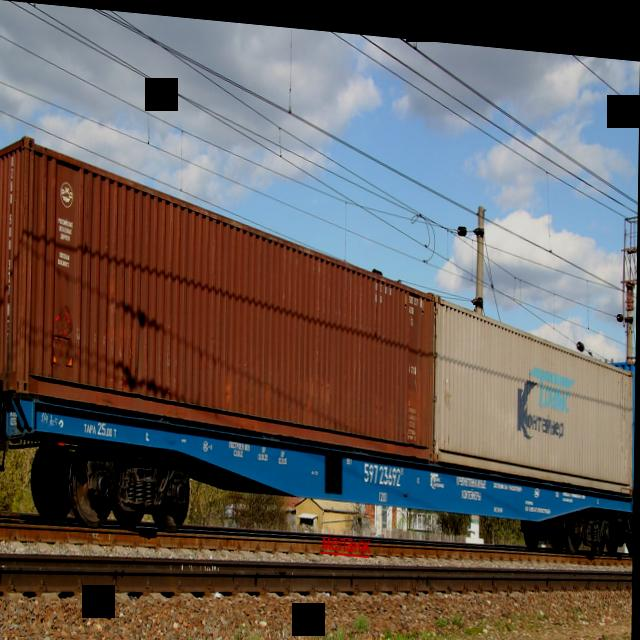container: (0, 128, 441, 457), (436, 280, 637, 487)
flatcar: (0, 389, 635, 580)
